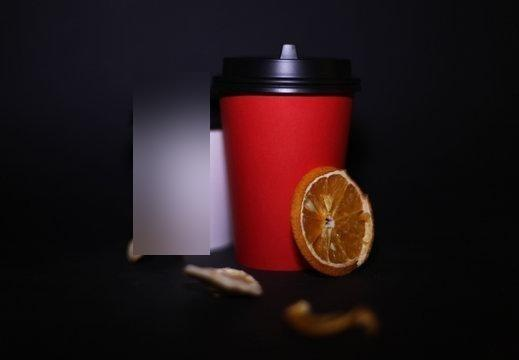cup-disposable: (213, 51, 363, 275)
